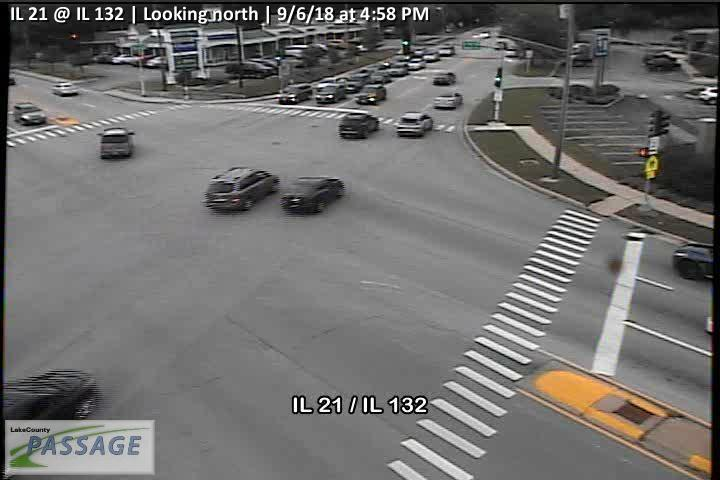SUV: (1, 367, 98, 441), (202, 166, 280, 211), (97, 126, 136, 159), (338, 111, 380, 140), (396, 111, 434, 138), (13, 101, 48, 126), (278, 82, 312, 105), (354, 84, 387, 105), (315, 83, 346, 104), (423, 50, 440, 62), (439, 44, 455, 56)
Sedan: (280, 177, 345, 213), (433, 92, 463, 109), (51, 82, 79, 97), (432, 71, 456, 85), (389, 62, 409, 76), (371, 70, 391, 83), (408, 58, 425, 70)
